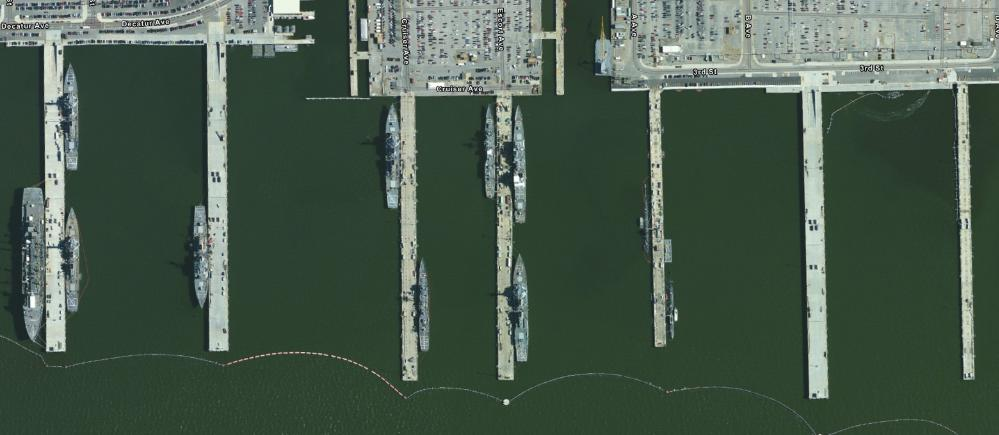cruiser: (415, 258, 439, 356), (484, 103, 500, 203)
destroyer: (511, 105, 531, 229)
fregate: (59, 60, 88, 173), (60, 209, 89, 318), (512, 251, 537, 371), (382, 103, 407, 212), (190, 200, 214, 310)
submarine: (639, 181, 653, 253), (665, 276, 678, 340)
tender: (14, 185, 48, 344)
